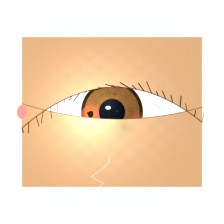foreign_body_visible: (129, 112, 149, 128)
